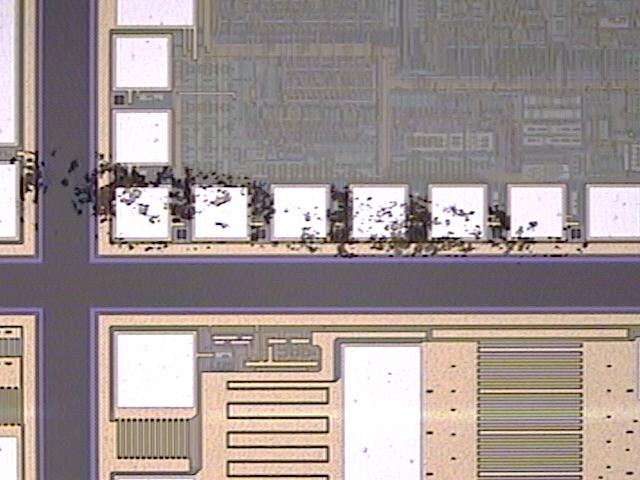SCRATCH: (1, 145, 604, 262)
